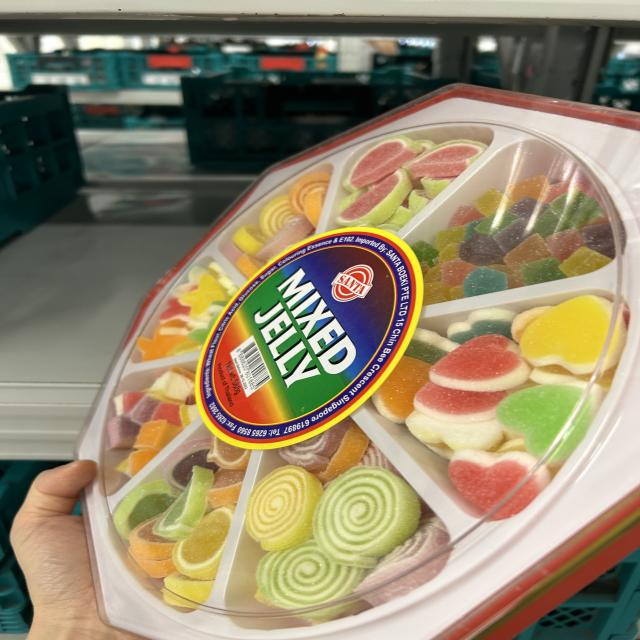object_name: (101, 106, 640, 639)
